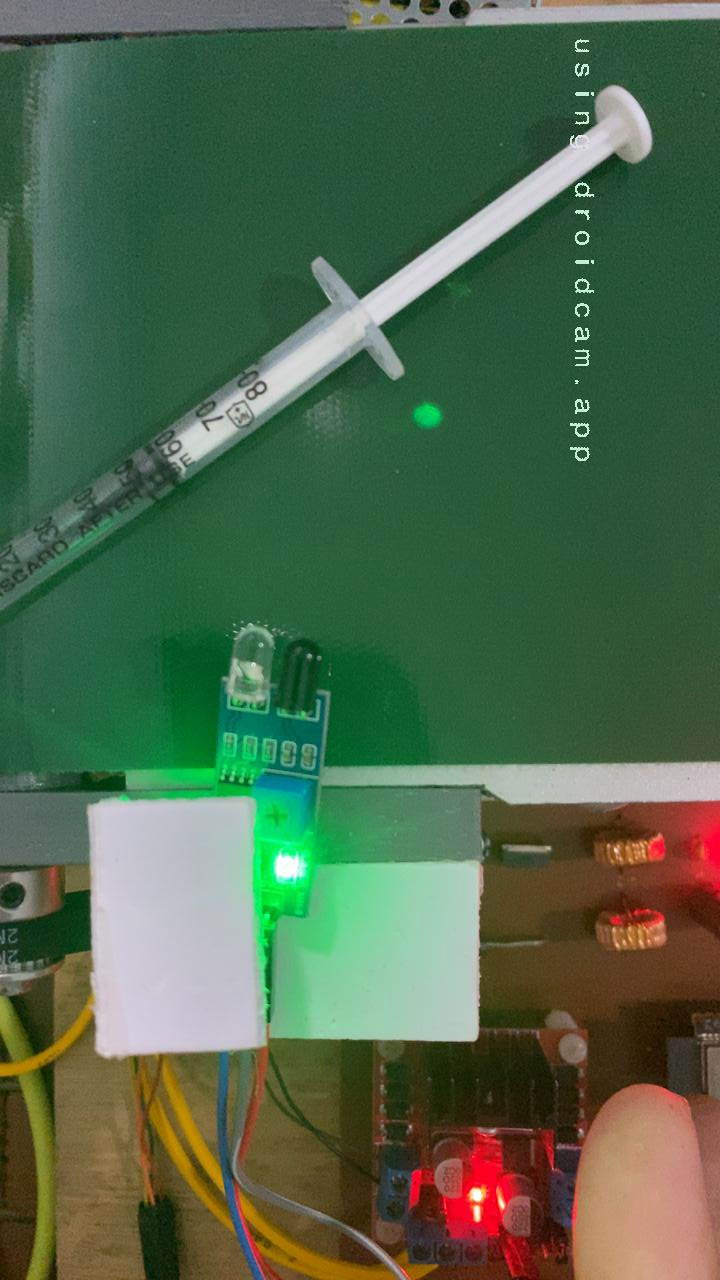syringe: (154, 78, 661, 479)
